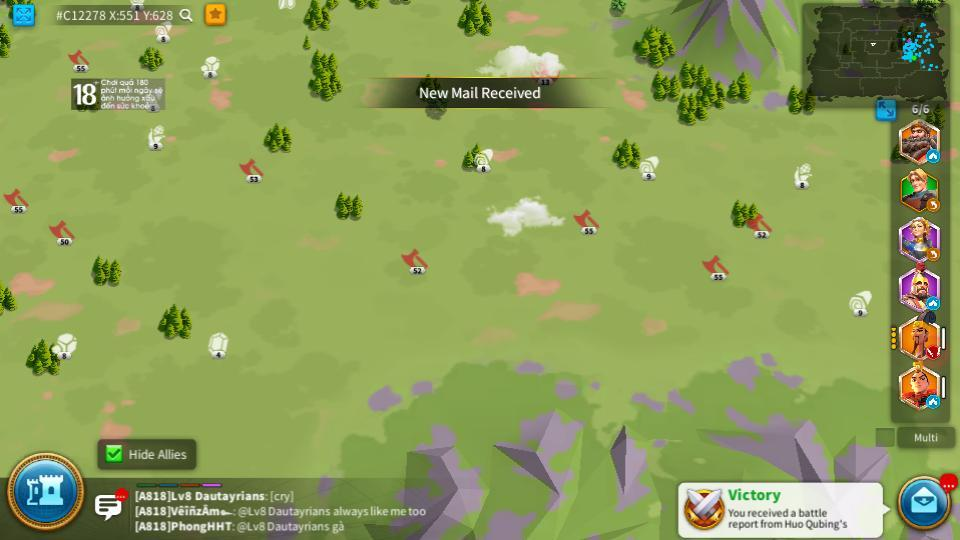gem-z-out: (205, 332, 230, 357), (277, 0, 295, 8)
march_attacking: (924, 349, 938, 359)
march_idle: (926, 150, 941, 162), (926, 396, 941, 407), (925, 297, 938, 307)
march_returning: (926, 248, 941, 261), (927, 201, 940, 212)
